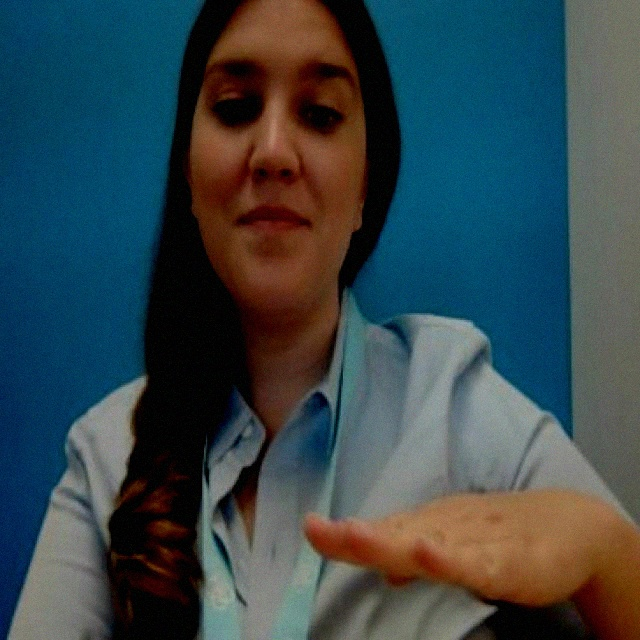Paper: (292, 473, 608, 614)
